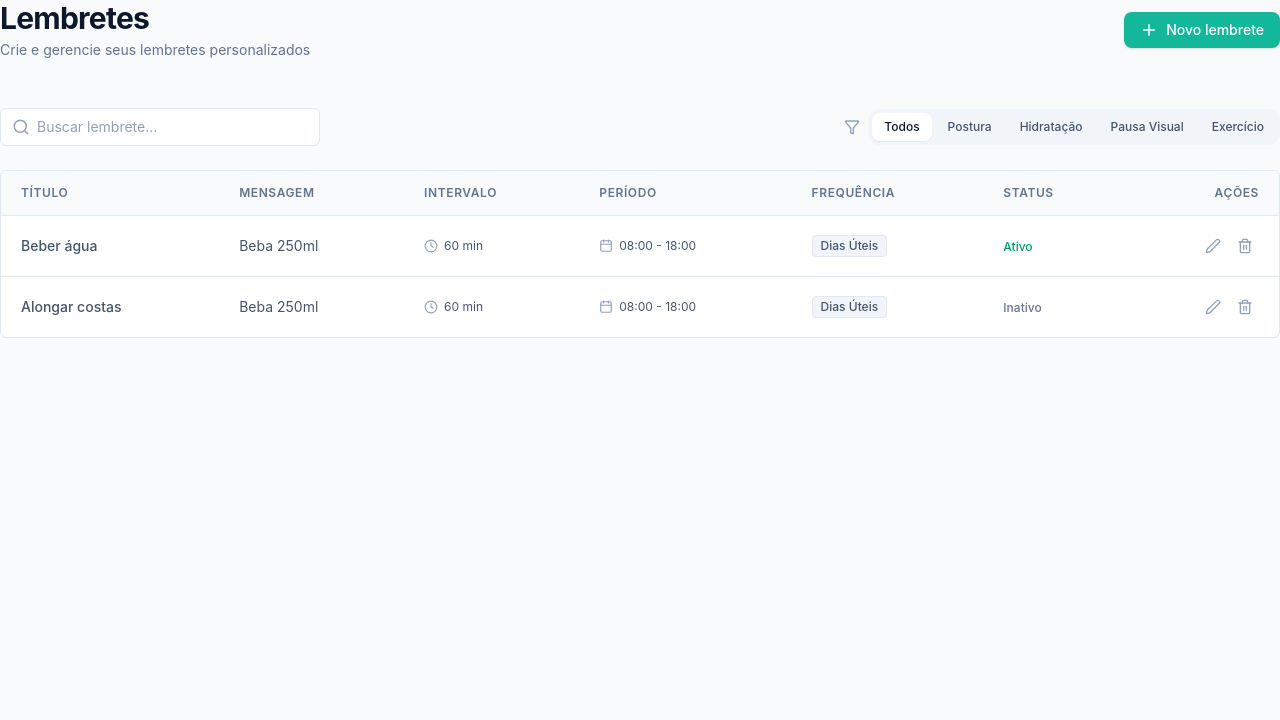
Test: Avisos de ergonomia em Configurações › salva como inativo um lembrete personalizado cuja categoria pertence a um módulo inativo
The image size is (1280, 720).
Later steps or results of the test are not shown.
Click the button titled "Editar lembrete" in the row of "Alongar costas".
click(1213, 307)  # box [1199,293,1227,321]
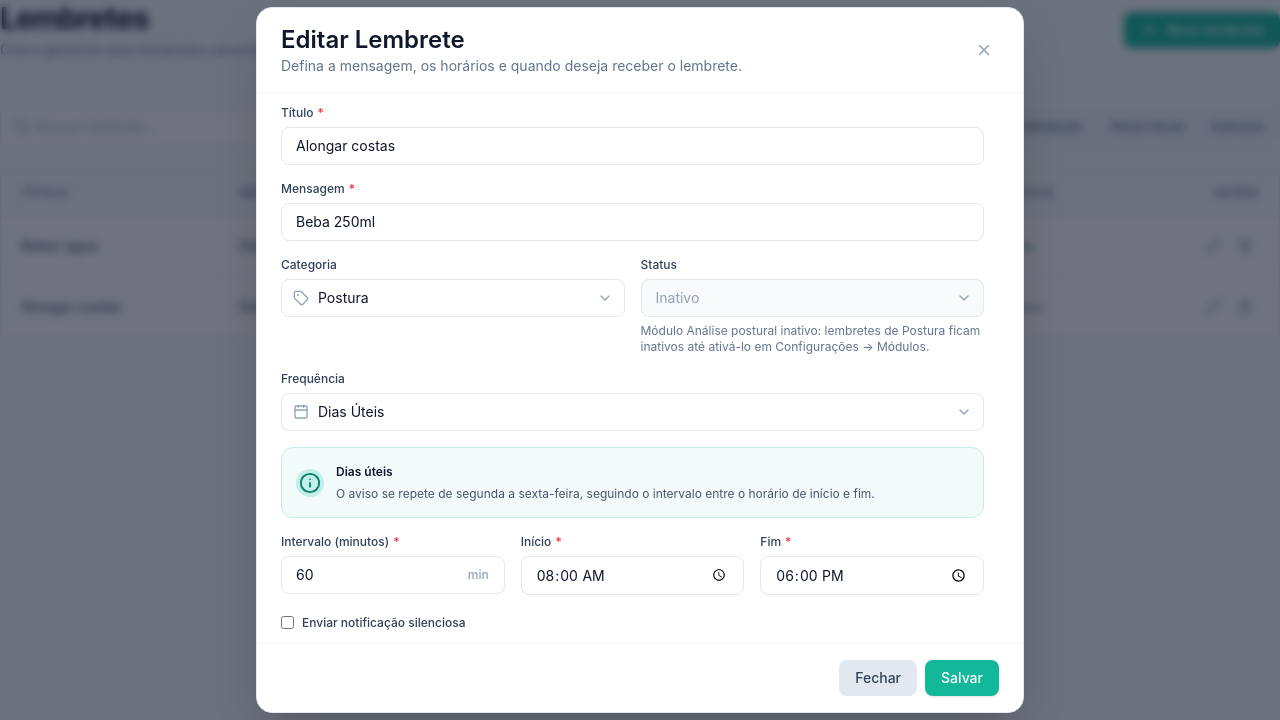
Now the dropdown labelled "Status" is disabled, box [640,279,984,317]
Now the dropdown labelled "Status" shows "Inativo", box [640,279,984,317]
Now the text "Módulo Análise postural inativo: lembretes de Postura ficam inativos" is shown, box [640,323,980,354]
